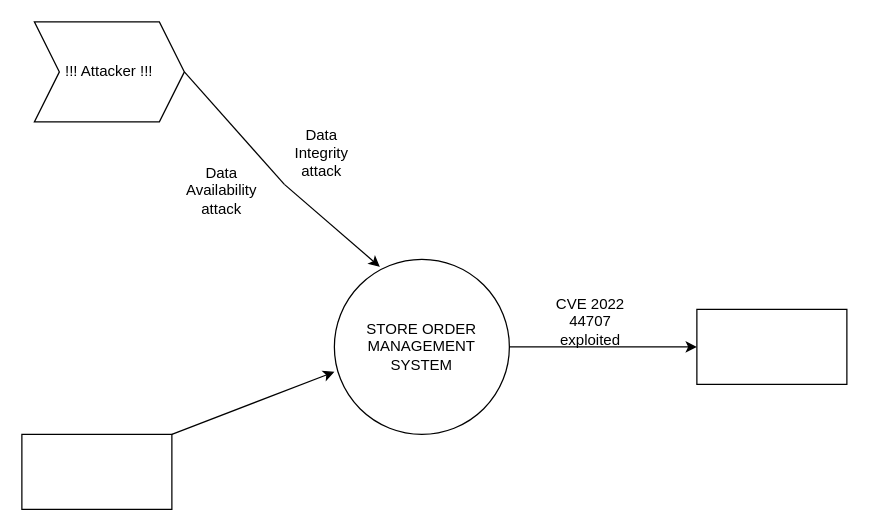
This 869x531 diagram has some shape labels left out. Here are the shapes that lost their labels. From the top down, the box of each, then its label:
(696, 308, 847, 384): DENIAL of Service (DoS)
(21, 433, 172, 509): Fake anomalious input in
